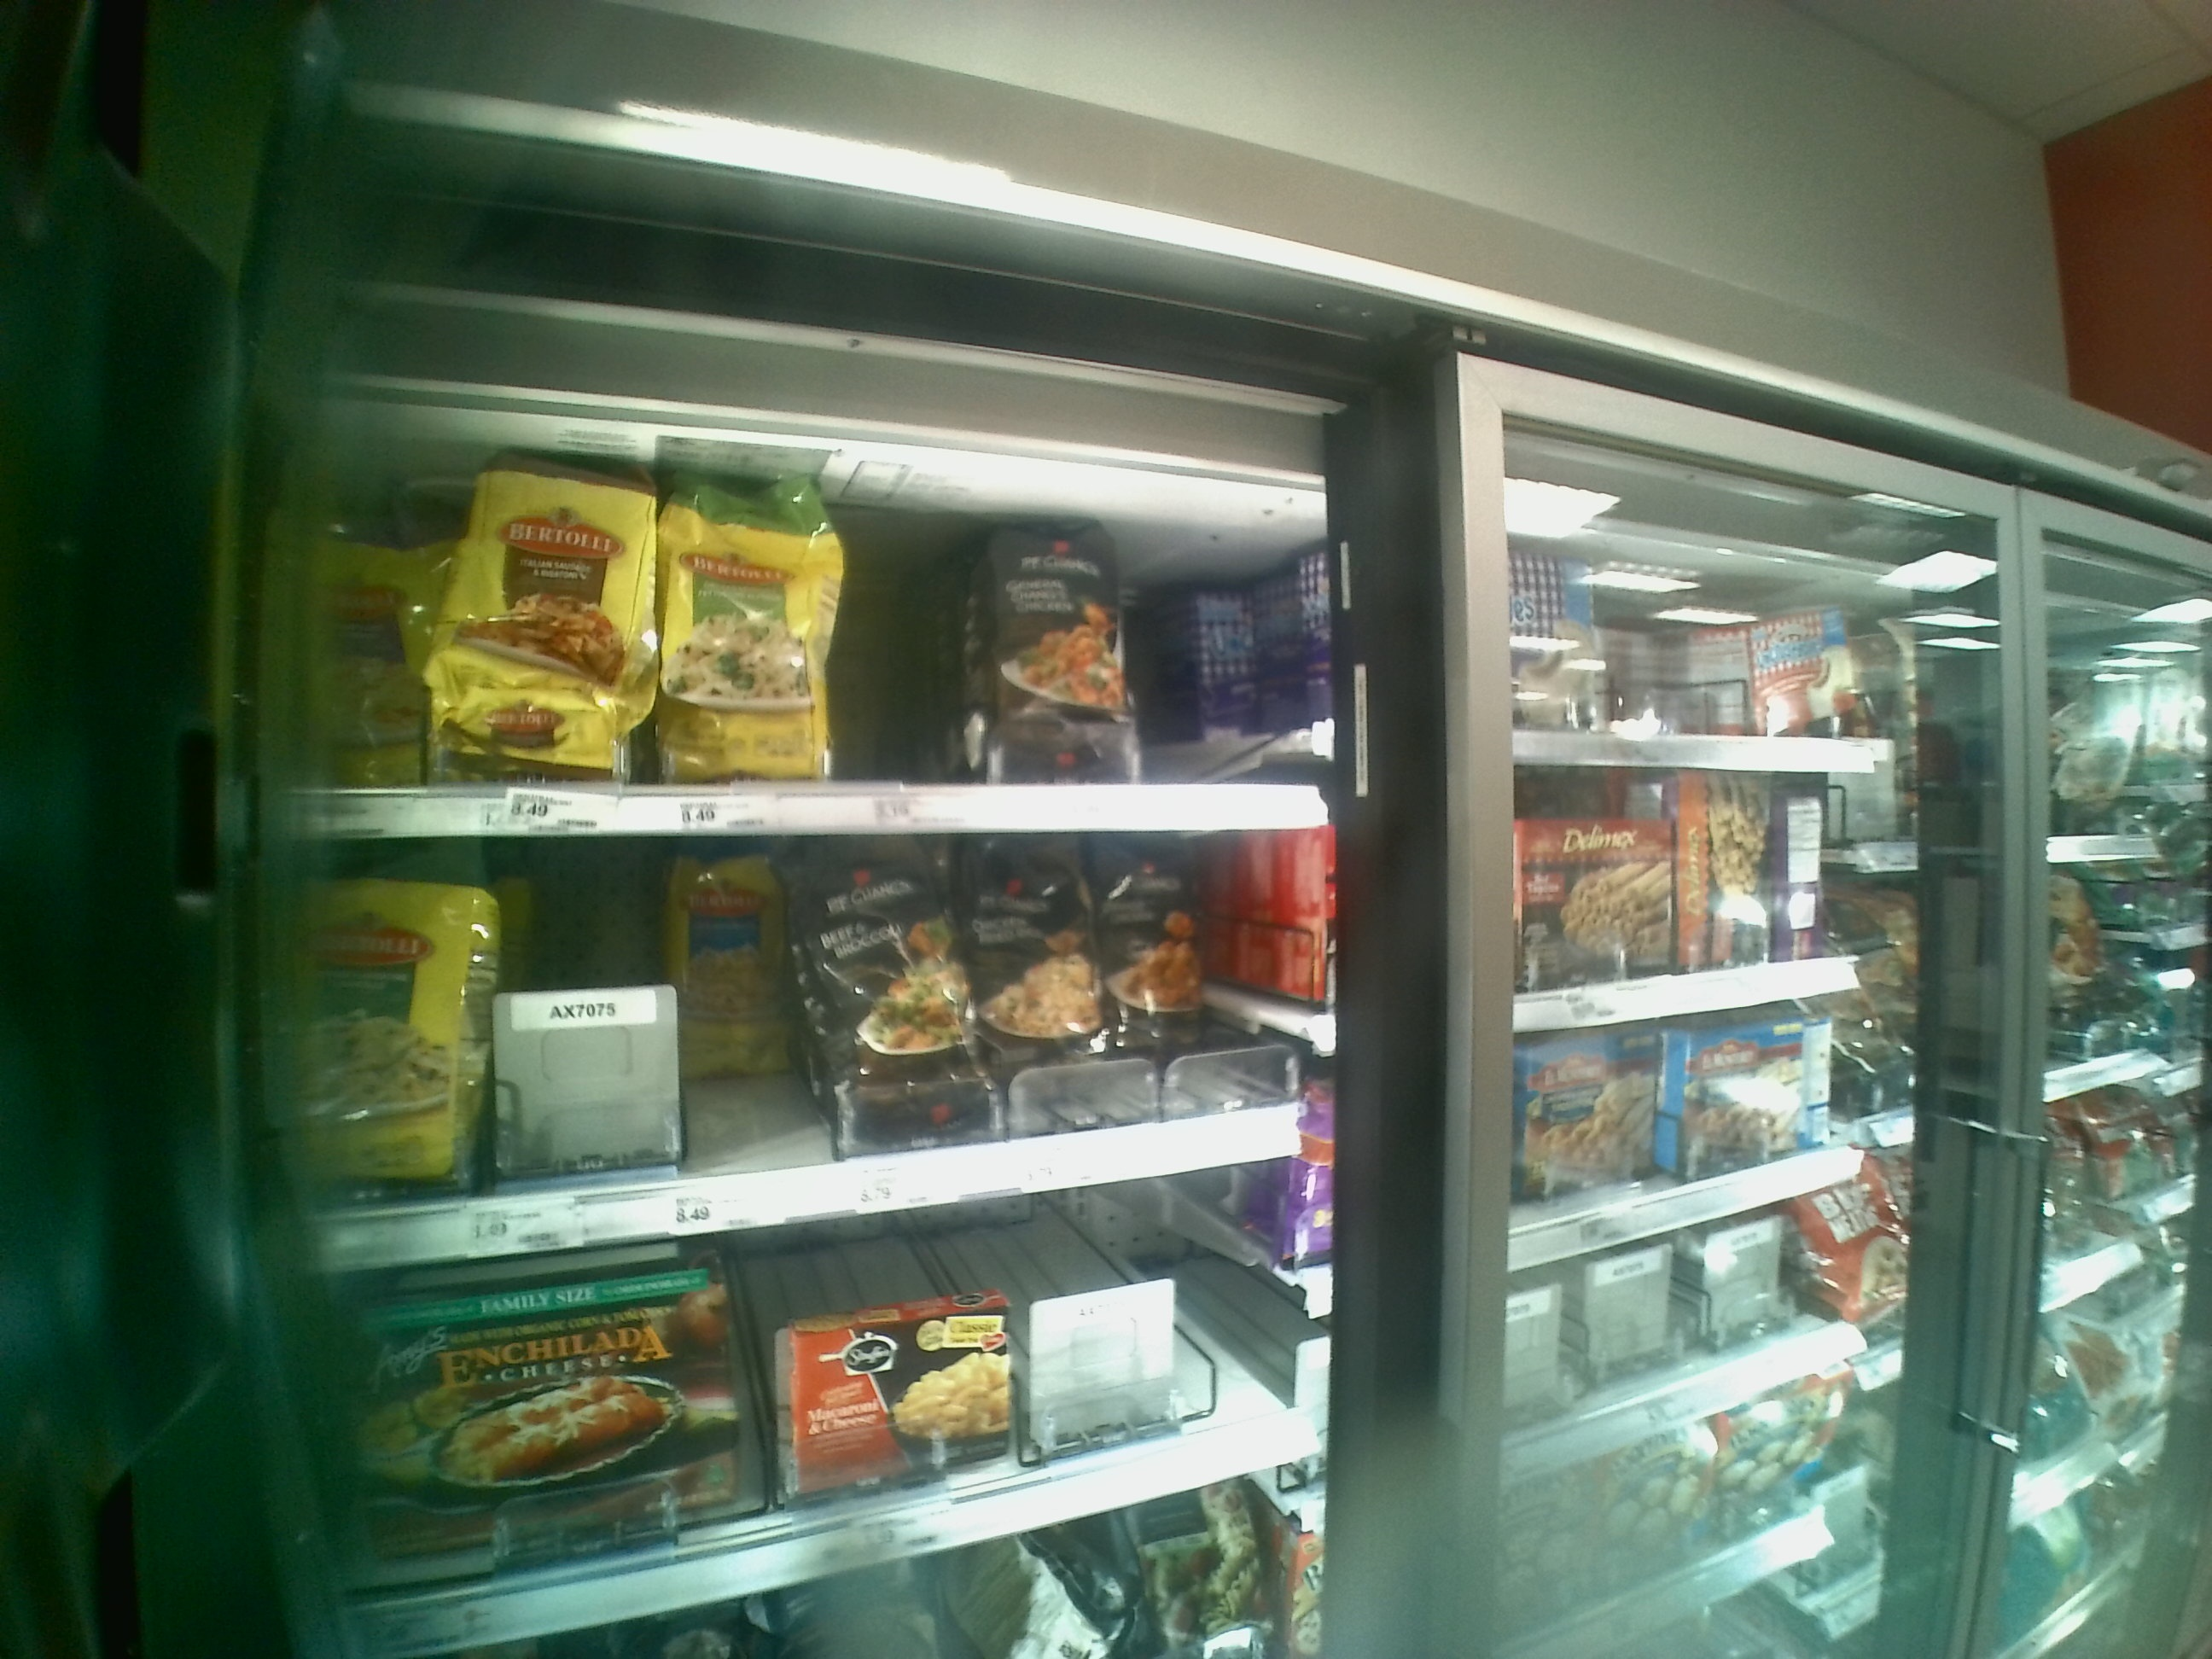shelf: (294, 420, 1327, 840), (333, 1195, 1346, 1575), (301, 852, 1336, 1201)
